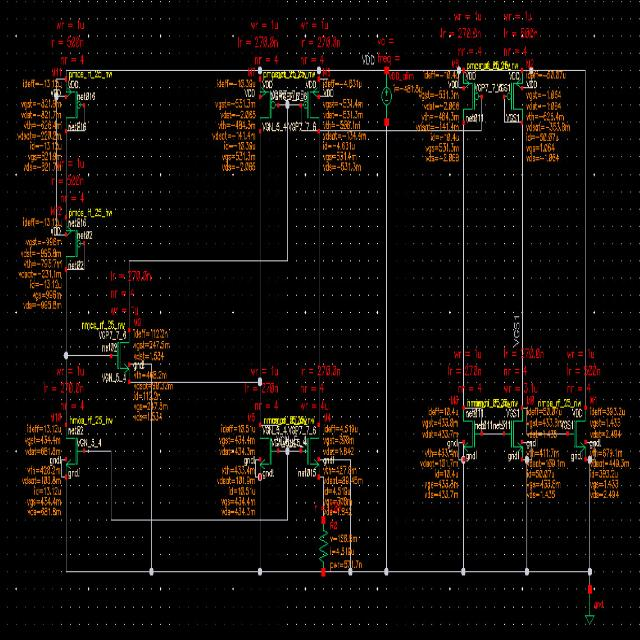nmos: (298, 422, 322, 480), (462, 402, 484, 462), (258, 420, 279, 482), (502, 404, 524, 463), (64, 423, 85, 481), (566, 405, 587, 463), (110, 329, 130, 385)
pmos: (461, 67, 483, 128), (257, 76, 279, 135), (502, 67, 524, 126), (298, 78, 322, 132), (64, 75, 84, 136), (64, 215, 85, 271)
res: (317, 518, 329, 576)
vdc: (380, 62, 392, 130)
